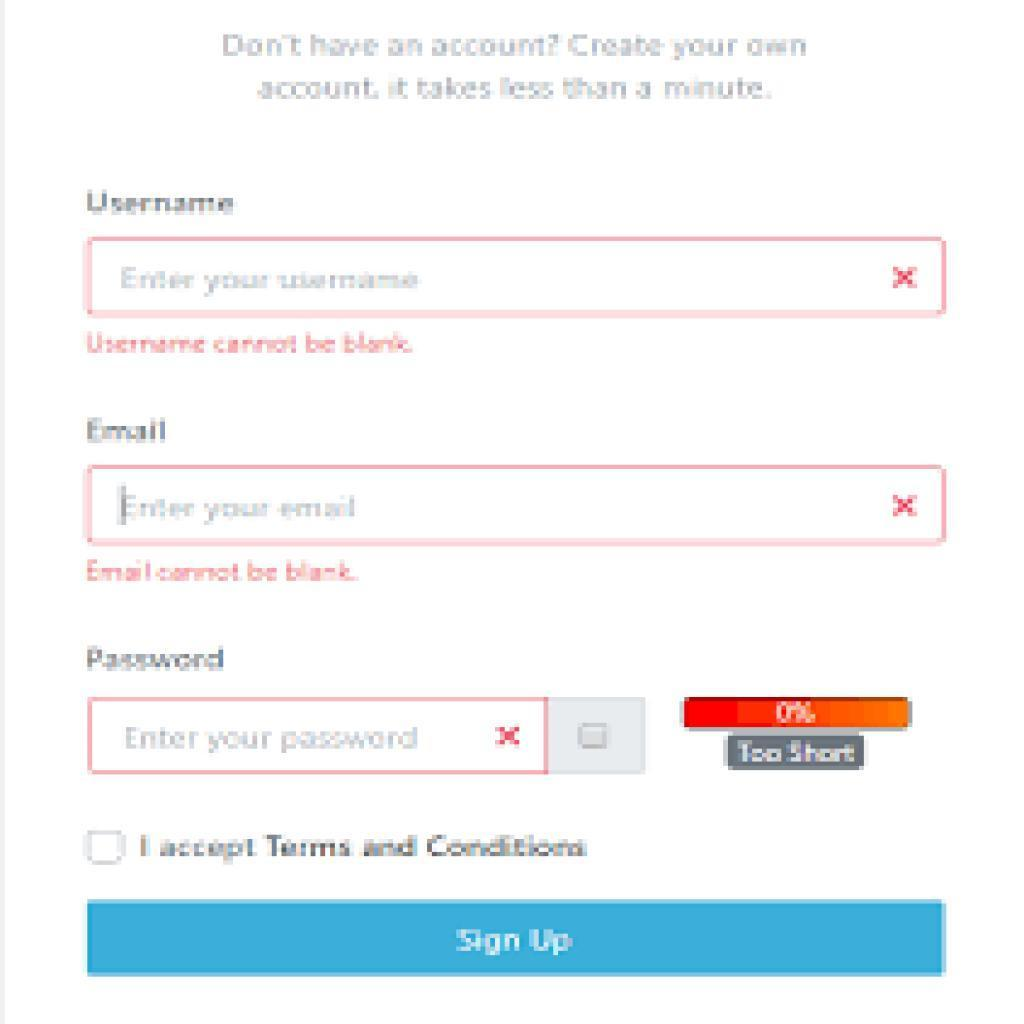button: (89, 900, 943, 975)
checkbox: (85, 828, 127, 867)
icon: (550, 698, 648, 774)
input: (83, 465, 946, 547), (87, 237, 947, 317), (89, 698, 548, 773)
label: (133, 829, 592, 863)
